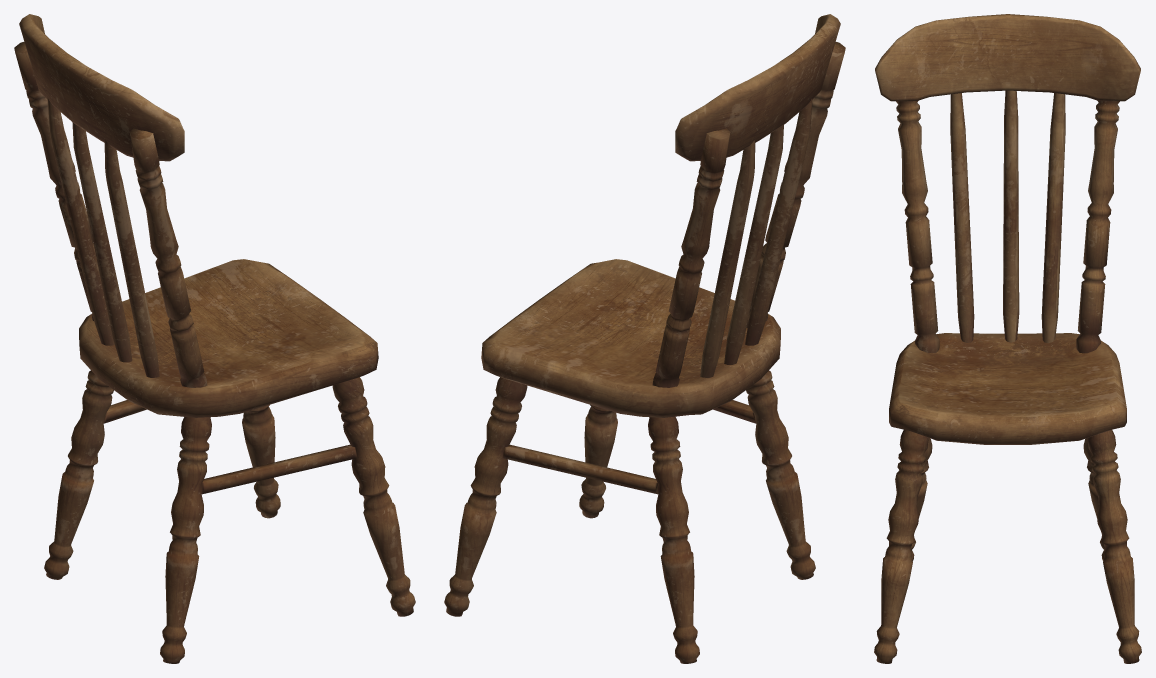
File: NEW FUNCTIONAL CHAIR IF THIS DOESNT WORK I WILL CRY VERSION2.fbx
3 views of the same model, side by side, from view 1: azimuth 30°, elevation 25°; view 2: azimuth 150°, elevation 25°; view 3: azimuth 270°, elevation 25° (orthographic). The views are drawn at different scales.
Parts seen in each view (by area): view 1: chairsdfegrhdtgjur; view 2: chairsdfegrhdtgjur; view 3: chairsdfegrhdtgjur.
Part boxes in pixels (left/top/right/bottom): chairsdfegrhdtgjur: left=14, top=14, right=415, bottom=663; chairsdfegrhdtgjur: left=444, top=14, right=845, bottom=663; chairsdfegrhdtgjur: left=874, top=14, right=1141, bottom=663.
Size of the model in its own units: 1256 by 2375 by 1094.
